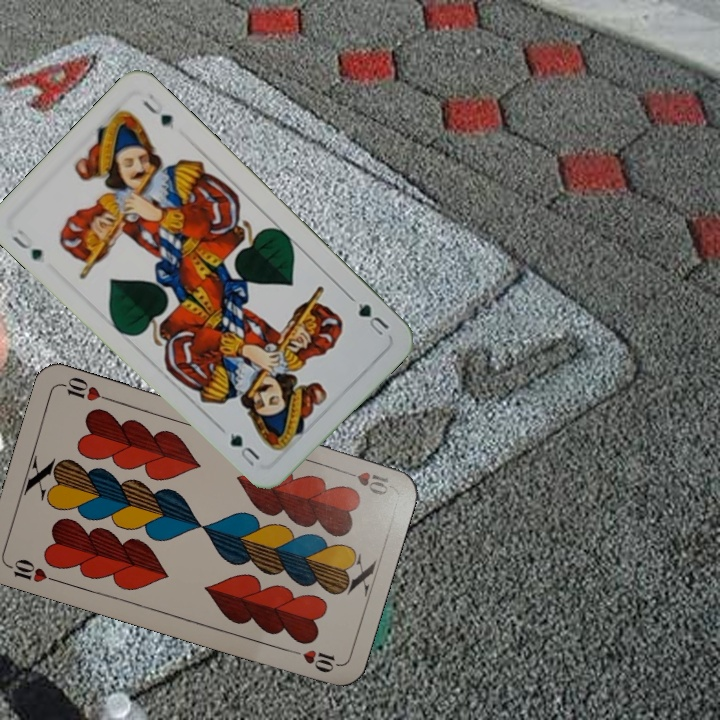GU: (354, 298, 392, 339), (8, 225, 45, 263)
H10: (336, 466, 391, 498), (4, 555, 62, 585)
